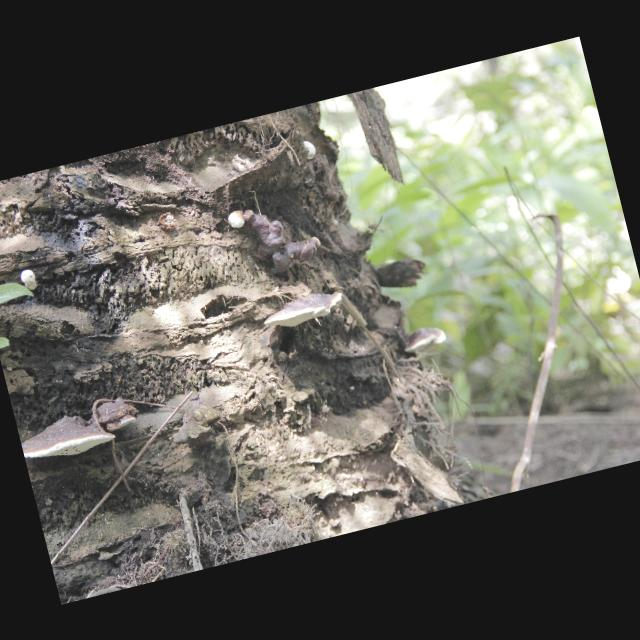ganoderma: (243, 197, 317, 282), (19, 406, 119, 467), (260, 286, 349, 335), (89, 395, 143, 437), (401, 323, 450, 360)
primordium: (19, 268, 40, 293), (227, 209, 248, 231), (304, 139, 320, 161), (312, 235, 323, 250)
